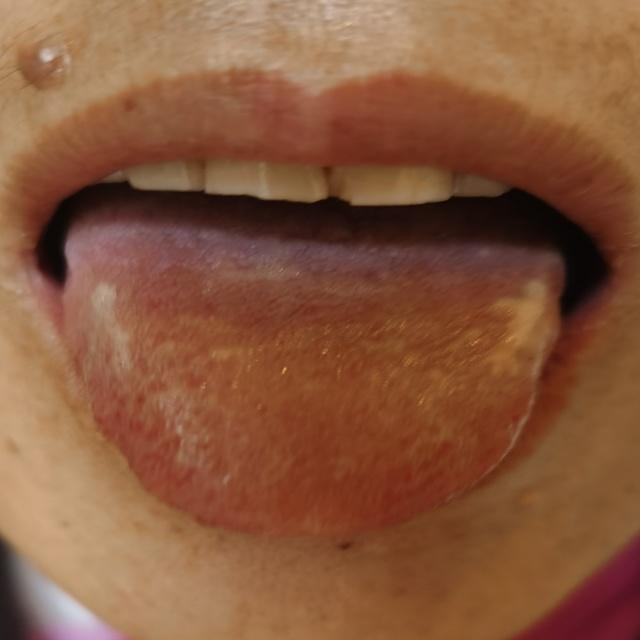baitaishe: (62, 217, 565, 537)
